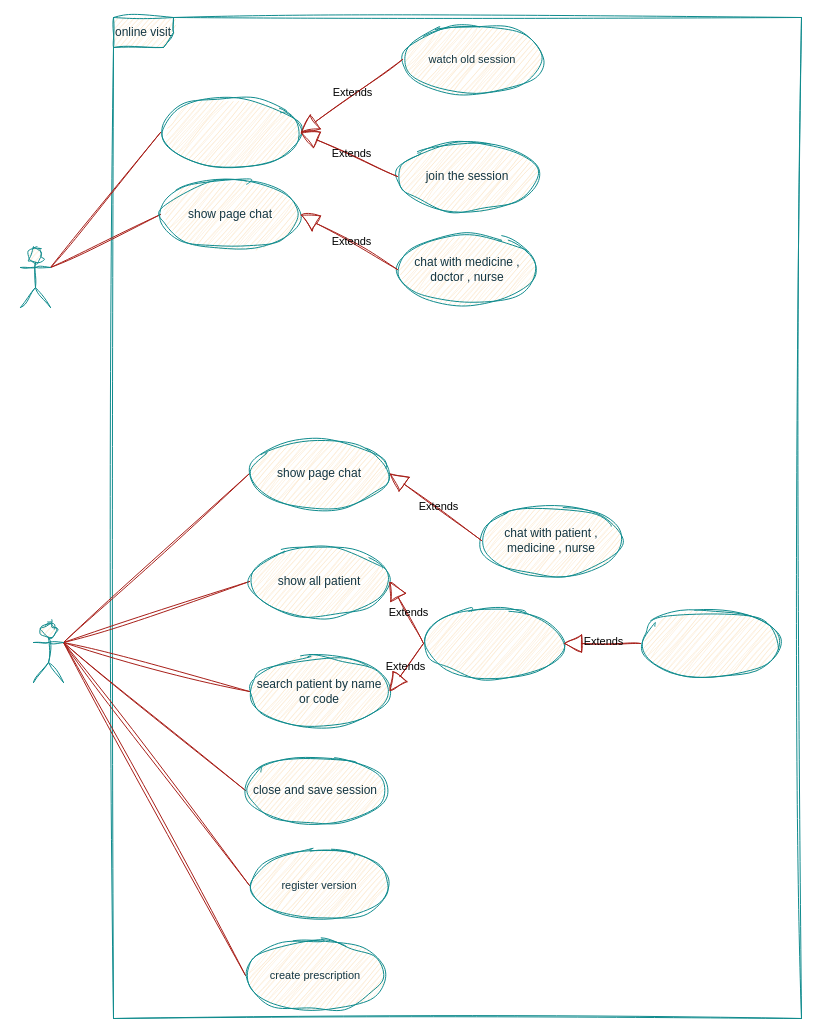
The diagram is 819 pixels wide and 1036 high, and some of its shapes have lost their labels. The box of each missing label's shape, as (x1, y1, x2, y2) in pixels:
created session: (640, 608, 780, 678)
doctor: (32, 622, 64, 682)
patient: (20, 246, 50, 308)
select patient: (422, 608, 564, 678)
show all session: (160, 96, 300, 168)
